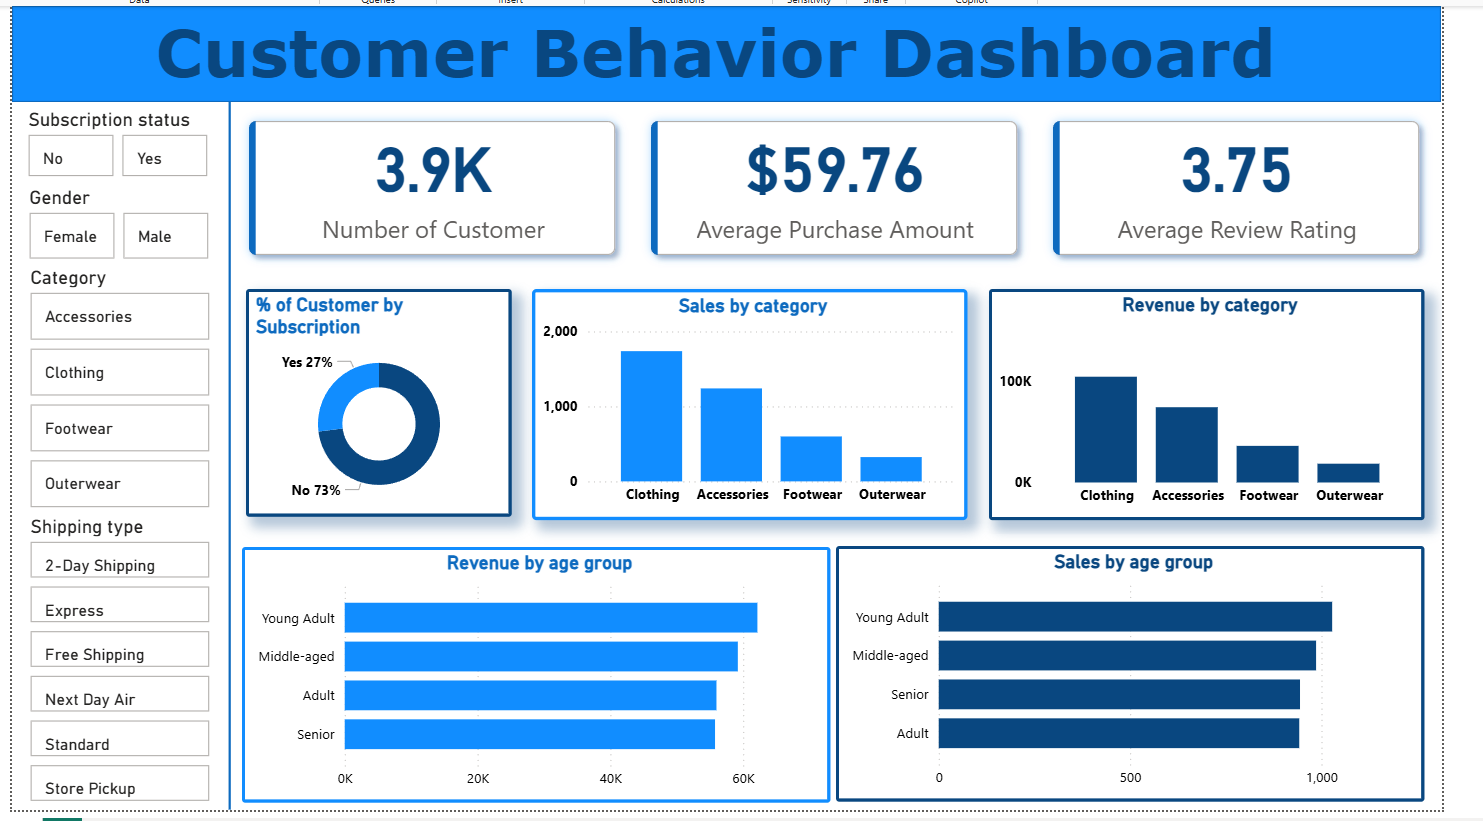

What the dashboard file says about the page in this screenshot:
{"tool":"powerbi","page":{"name":"Page 1","canvas":[1280,720],"ordinal":0},"visuals":[{"type":"cardVisual","fields":{"Data":["customer_behaviour customer.Number of Customer","customer_behaviour customer.Average Purchase Amount","customer_behaviour customer.Average Review Rating"]},"box":[195.2,86,1084.5,154],"z":0},{"type":"shape","box":[0,0,1279.7,86],"z":1000},{"type":"textbox","box":[123.6,0,1033.4,86],"z":2000},{"type":"donutChart","title":"% of Customer by Subscription","fields":{"Category":["customer_behaviour customer.subscription_status"],"Y":["Count(customer_behaviour customer.customer_id)"]},"box":[210,253.6,238.2,203.6],"z":3000},{"type":"clusteredColumnChart","title":"Revenue by category","fields":{"Y":["Sum(customer_behaviour customer.purchase_amount)"],"Category":["customer_behaviour customer.category"]},"box":[874.5,253.6,390,207.3],"z":4000},{"type":"clusteredColumnChart","title":"Sales by category","fields":{"Y":["Count(customer_behaviour customer.customer_id)"],"Category":["customer_behaviour customer.category"]},"box":[465.5,253.6,390,207.3],"z":5000},{"type":"clusteredBarChart","title":"Revenue by age group","fields":{"Y":["Sum(customer_behaviour customer.purchase_amount)"],"Category":["customer_behaviour customer.age_group"]},"box":[206.4,484.5,527.3,229.1],"z":6000},{"type":"clusteredBarChart","title":"Sales by age group","fields":{"Category":["customer_behaviour customer.age_group"],"Y":["Count(customer_behaviour customer.customer_id)"]},"box":[738.2,483.6,527.3,229.1],"z":7000},{"type":"advancedSlicerVisual","fields":{"Values":["customer_behaviour customer.subscription_status"]},"box":[10,90.9,170,66.4],"z":8000},{"type":"advancedSlicerVisual","fields":{"Values":["customer_behaviour customer.gender"]},"box":[10.9,160.9,170,70.9],"z":9000},{"type":"advancedSlicerVisual","fields":{"Values":["customer_behaviour customer.category"]},"box":[11.8,232.7,170,222.7],"z":10000},{"type":"advancedSlicerVisual","fields":{"Values":["customer_behaviour customer.shipping_type"]},"box":[11.6,461.2,170.1,258.8],"z":11000},{"type":"shape","box":[183.6,86.4,22.7,633.6],"z":11001}]}

Visuals, with their boxes in screenshot pixels (x1, y1, x2, y2):
cardVisual - customer_behaviour customer.Number of Customer x customer_behaviour customer.Average Purchase Amount: (x1=216, y1=97, x2=1438, y2=270)
shape: (x1=0, y1=0, x2=1438, y2=97)
textbox: (x1=135, y1=0, x2=1300, y2=97)
"% of Customer by Subscription" donutChart: (x1=233, y1=286, x2=501, y2=515)
"Revenue by category" clusteredColumnChart: (x1=981, y1=286, x2=1421, y2=519)
"Sales by category" clusteredColumnChart: (x1=521, y1=286, x2=960, y2=519)
"Revenue by age group" clusteredBarChart: (x1=229, y1=546, x2=823, y2=804)
"Sales by age group" clusteredBarChart: (x1=828, y1=545, x2=1422, y2=803)
advancedSlicerVisual - customer_behaviour customer.subscription_status: (x1=7, y1=102, x2=199, y2=177)
advancedSlicerVisual - customer_behaviour customer.gender: (x1=8, y1=181, x2=200, y2=261)
advancedSlicerVisual - customer_behaviour customer.category: (x1=9, y1=262, x2=201, y2=513)
advancedSlicerVisual - customer_behaviour customer.shipping_type: (x1=9, y1=520, x2=201, y2=811)
shape: (x1=203, y1=97, x2=229, y2=811)
